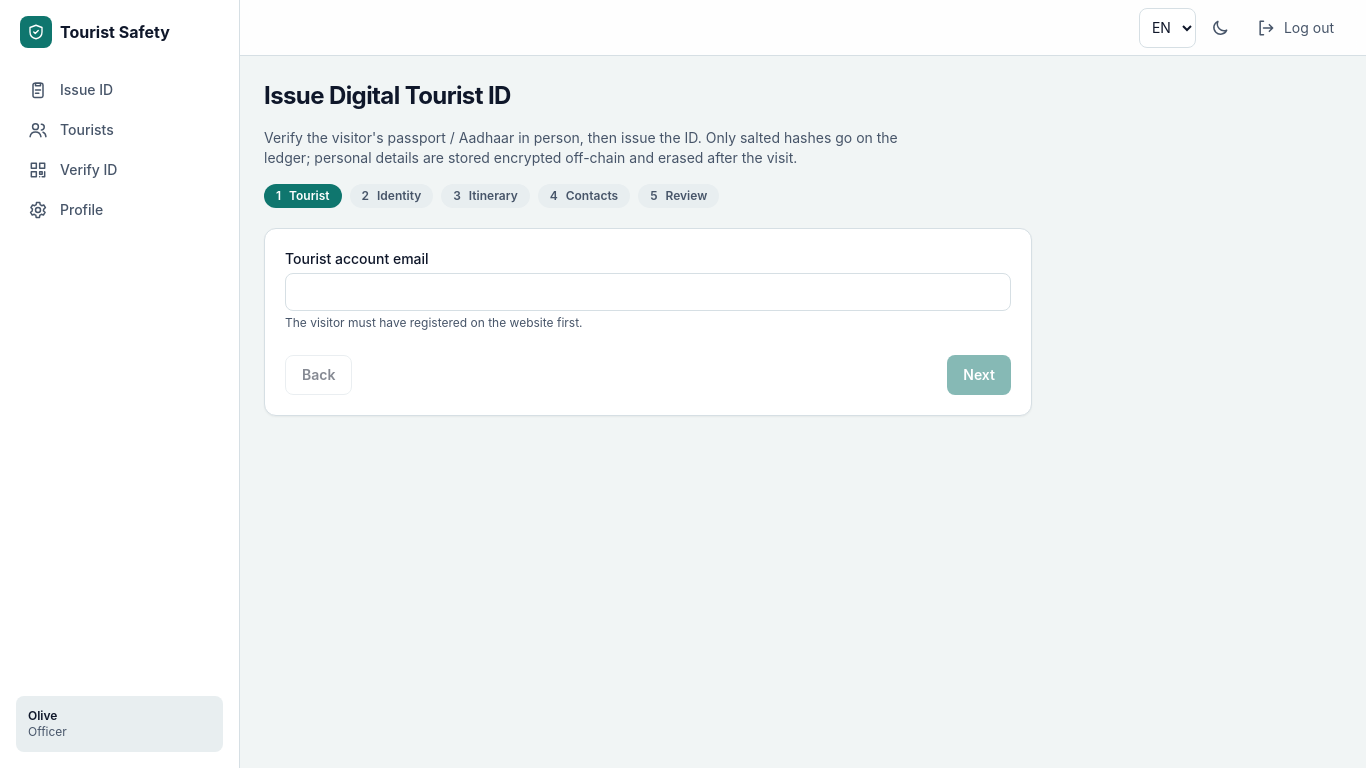
Test case: unknown email and already-issued visitors are explained, not advanced
Type "nobody@x.com" into the field labelled "Tourist account email".
click(648, 292); type("nobody@x.com")  # box [285,273,1011,311]
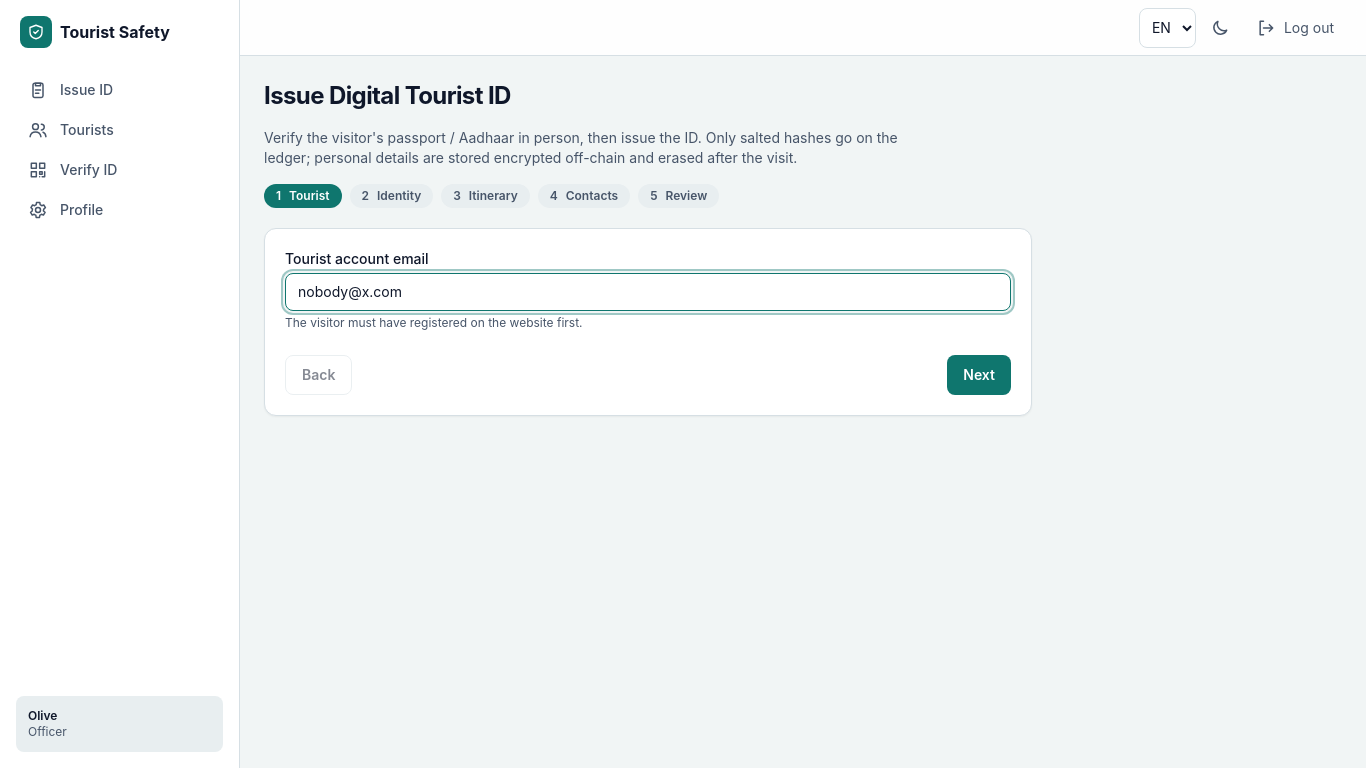
Click the button "Next".
click(979, 375)  # box [947,355,1011,395]
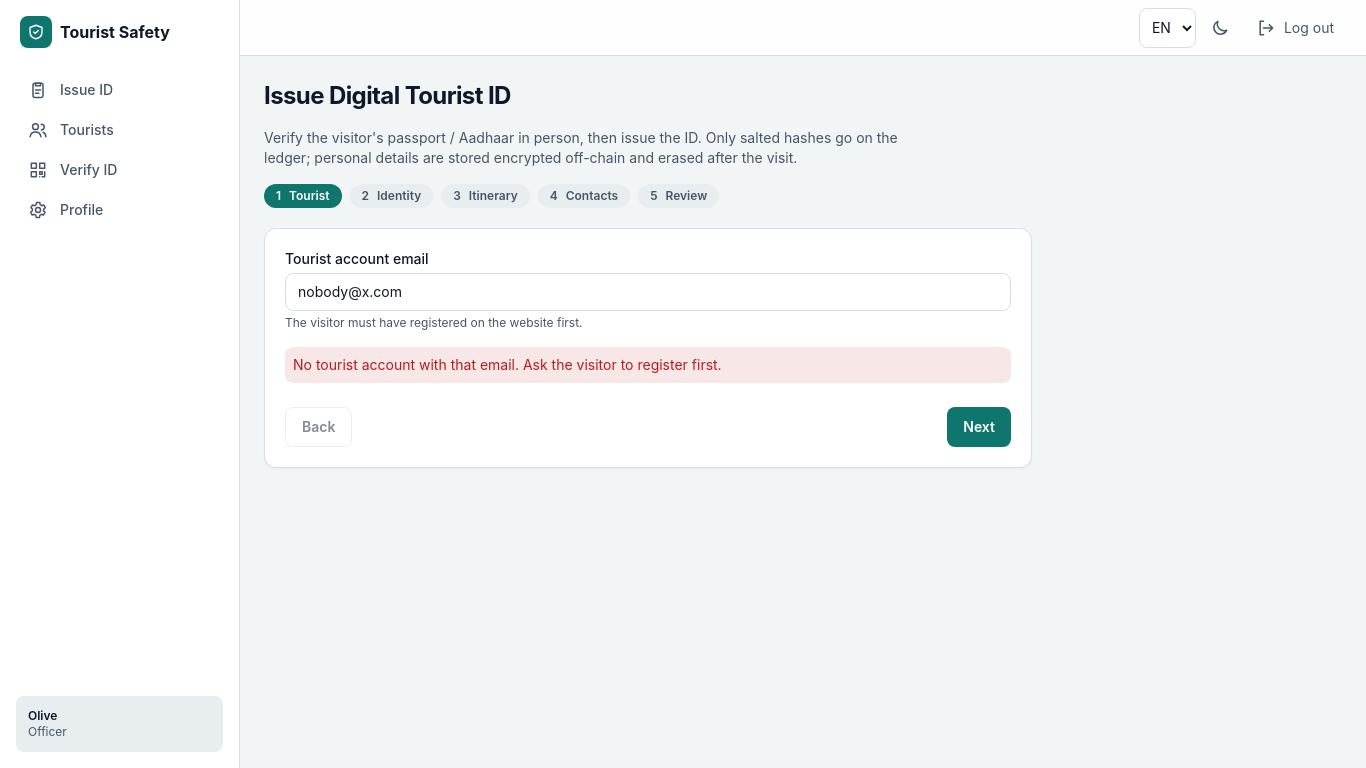
Now the message shows "No tourist account with that email", box [293,356,722,373]
Click the button "Next".
click(979, 427)  # box [947,407,1011,447]
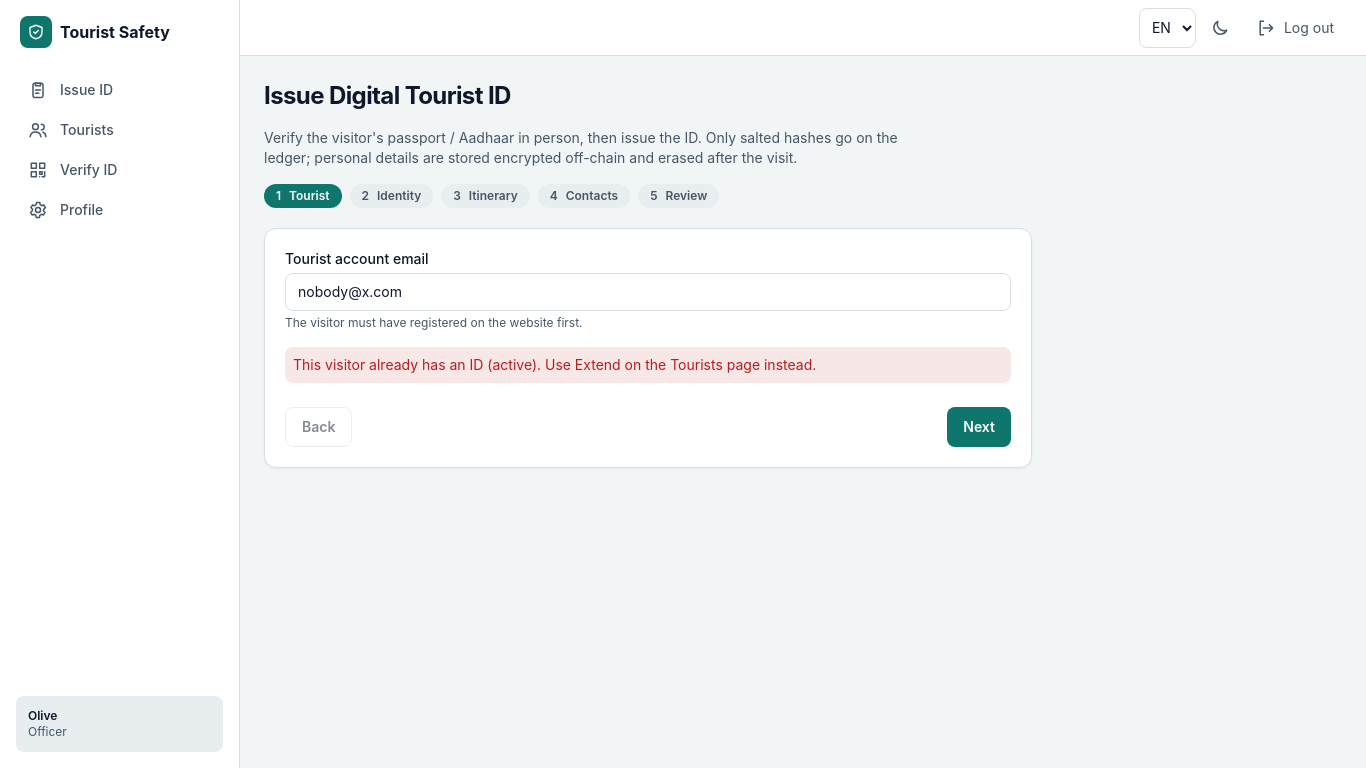
Now the message shows "already has an ID", box [293,356,816,373]
